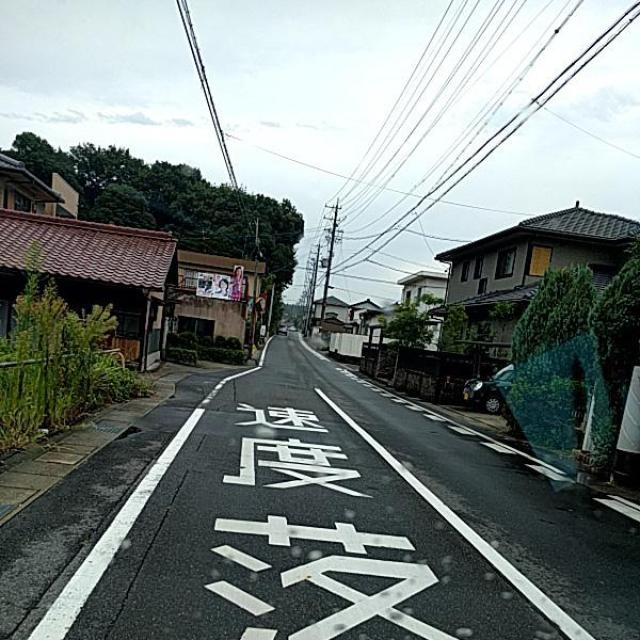Crack: (78, 357, 570, 640)
